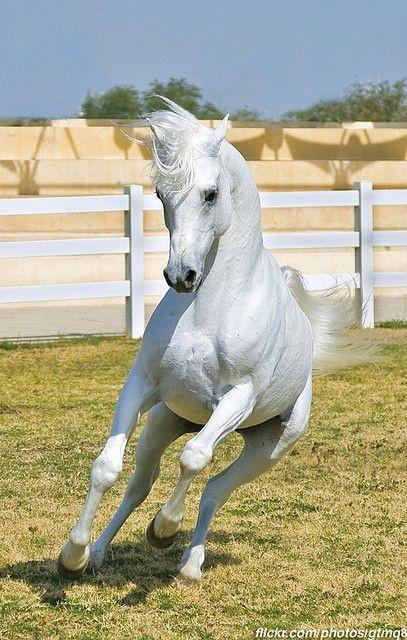horse: (56, 92, 384, 582)
